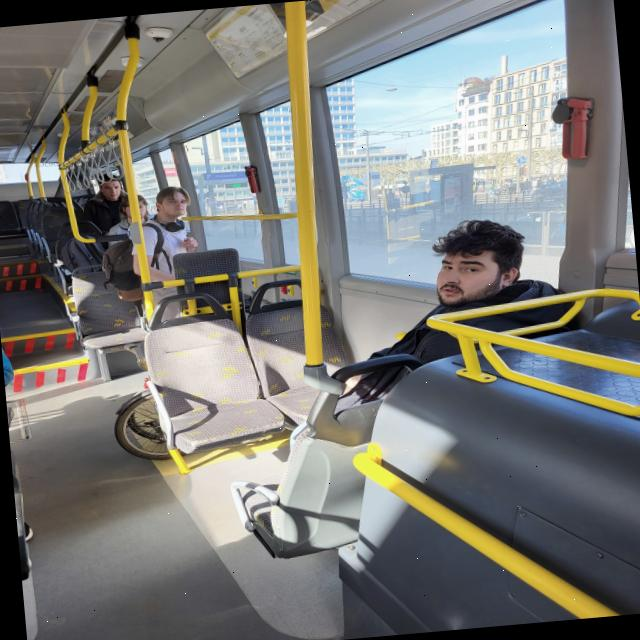empty-seat-frontal: (148, 286, 287, 456), (241, 266, 363, 428), (69, 260, 147, 355), (0, 193, 22, 247)
